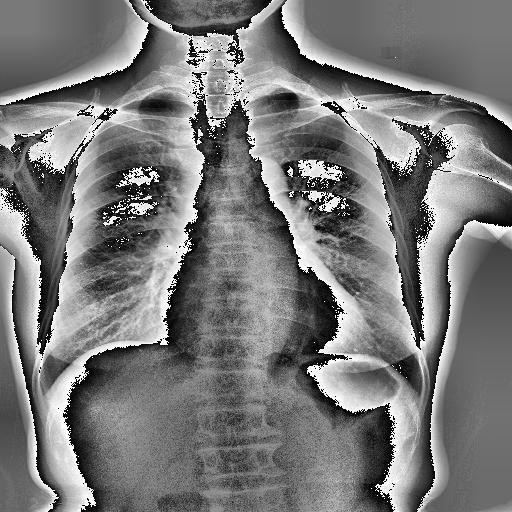0- Aortic enlargement: (228, 154, 288, 217)
3- Cardiomegaly: (162, 264, 374, 355), (160, 287, 370, 351), (156, 296, 364, 354)
